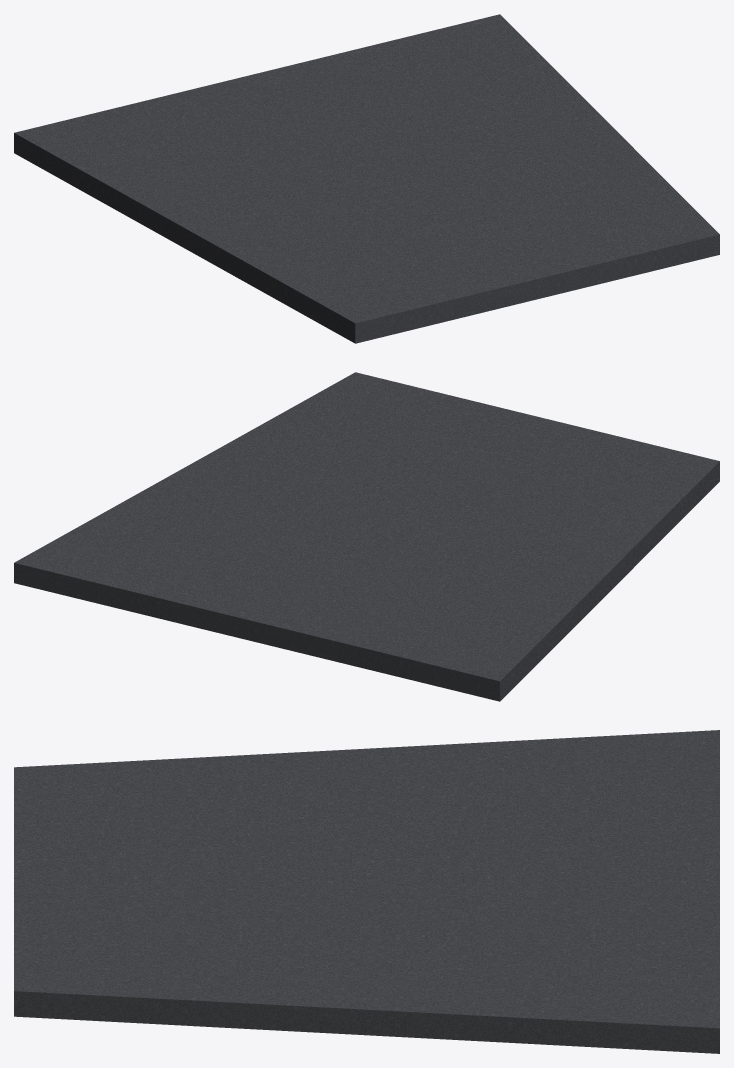
Rendered from MS_RD_06_Transition_4to3.glb.
3 renders of one model, top to bottom at view 1: azimuth 30°, elevation 25°; view 2: azimuth 150°, elevation 25°; view 3: azimuth 270°, elevation 25°, orthographic. The views are drawn at different scales.
Parts seen in each view (by area): view 1: Asphalt.006; view 2: Asphalt.006; view 3: Asphalt.006.
Part boxes in pixels (x1,y1,x2,y2): Asphalt.006: (14,14,719,343); Asphalt.006: (14,372,719,701); Asphalt.006: (14,730,719,1053).
Bounding box in the file's own units: 4 × 0.16 × 4.
1 material, 1 textured.
